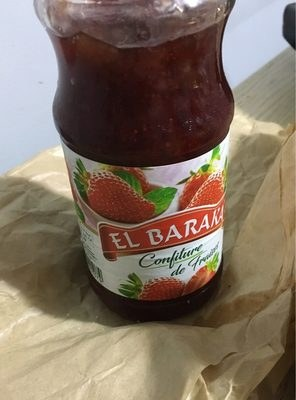Confiture De Fraises 430 G: (15, 20, 281, 380)
